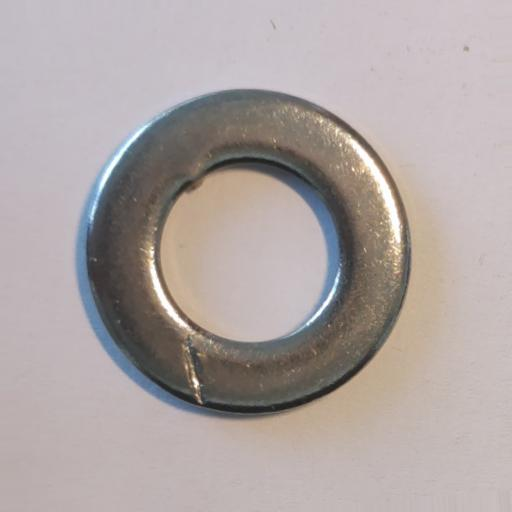scratch: (180, 334, 206, 405)
